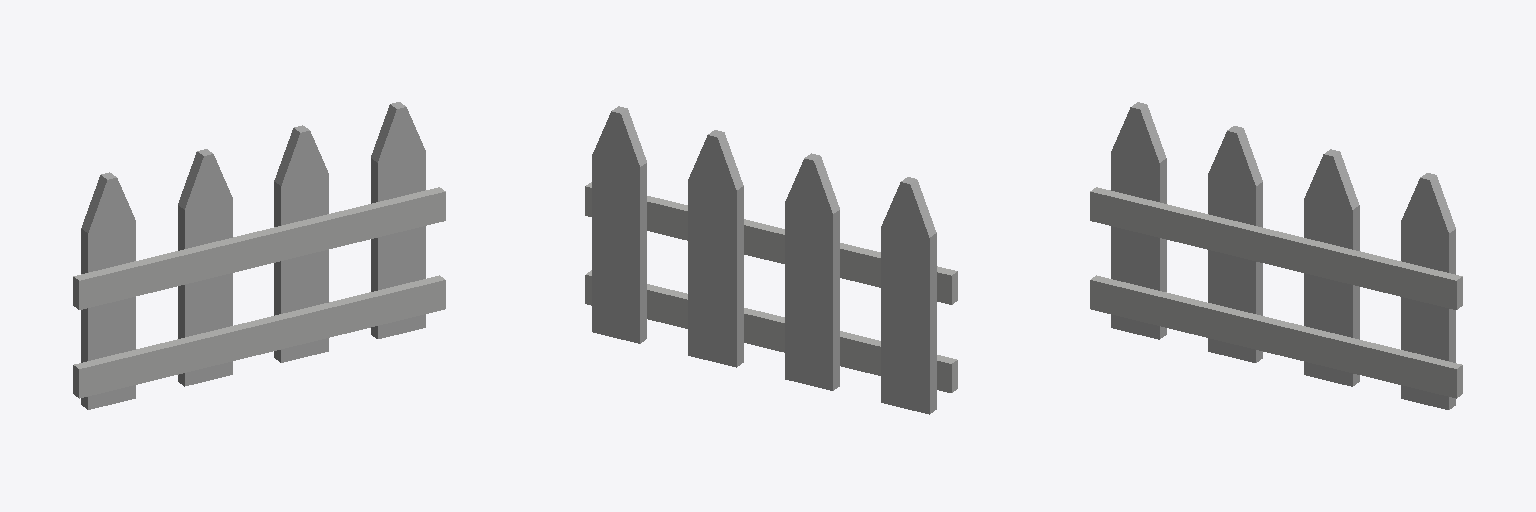
3 renders of one model, left to right at view 1: azimuth 30°, elevation 25°; view 2: azimuth 150°, elevation 25°; view 3: azimuth 330°, elevation 25°, orthographic.
Visible parts, largest first — view 1: Cube.001; view 2: Cube.001; view 3: Cube.001.
Part boxes in pixels (left/top/right/bottom): Cube.001: left=73, top=102, right=445, bottom=409; Cube.001: left=585, top=106, right=957, bottom=414; Cube.001: left=1090, top=102, right=1462, bottom=409.
Size of the model in its own units: 4.34 by 2.55 by 0.2703.
2 materials, 2 textured.